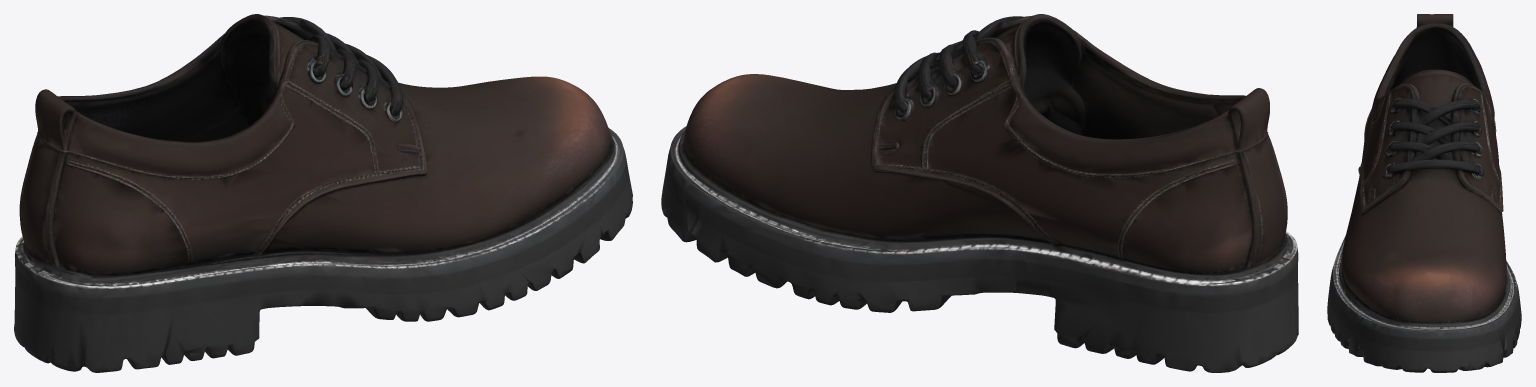
File: derby-hd.glb
3 views of the same model, side by side, from view 1: azimuth 30°, elevation 25°; view 2: azimuth 150°, elevation 25°; view 3: azimuth 270°, elevation 25° (orthographic). The views are drawn at different scales.
Parts seen in each view (by area): view 1: node_0; view 2: node_0; view 3: node_0.
Part boxes in pixels (box(x1,y1,x2,y2)): node_0: box(14, 14, 632, 372); node_0: box(661, 14, 1298, 372); node_0: box(1327, 14, 1521, 372).
Bounding box in the file's own units: 1.1 × 0.4964 × 0.4312.
1 material, 1 textured.
